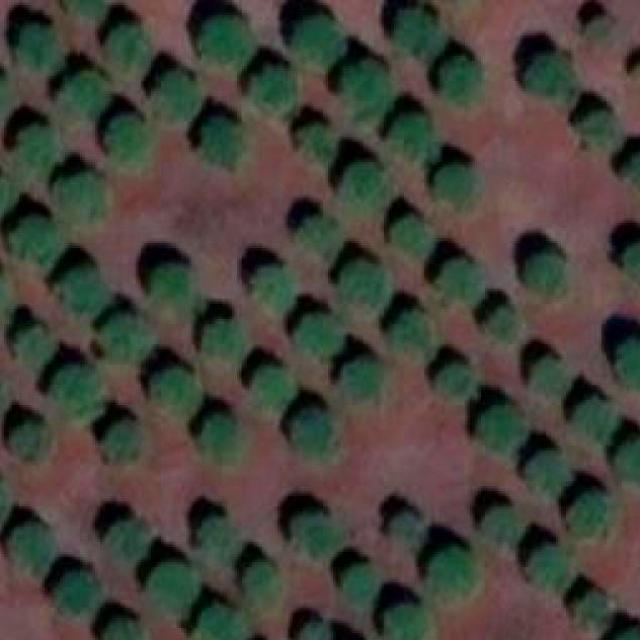Tree: (338, 63, 392, 121), (200, 12, 253, 71), (561, 491, 617, 545), (17, 20, 68, 79), (139, 560, 194, 614), (293, 18, 346, 72), (4, 522, 58, 575), (98, 314, 149, 368), (53, 170, 106, 221), (9, 213, 65, 261), (144, 363, 194, 416), (343, 162, 392, 216), (477, 400, 526, 454), (335, 355, 384, 408), (250, 64, 296, 119), (427, 545, 473, 598), (437, 251, 481, 305), (151, 263, 199, 312), (338, 261, 384, 312), (397, 5, 440, 59), (523, 446, 571, 494), (237, 555, 282, 606), (196, 415, 242, 464), (63, 69, 108, 119), (384, 116, 432, 162), (283, 509, 331, 555), (55, 569, 100, 618), (50, 365, 93, 413), (154, 71, 197, 119), (105, 20, 144, 71), (437, 56, 478, 104), (291, 407, 331, 456), (102, 117, 141, 167), (526, 54, 571, 97), (250, 365, 294, 408), (202, 113, 240, 162), (442, 162, 480, 211), (293, 312, 336, 355), (14, 324, 55, 368), (105, 516, 149, 557), (483, 504, 524, 548), (432, 357, 473, 401), (529, 540, 569, 585), (526, 251, 561, 302), (571, 395, 612, 438), (199, 602, 245, 640), (193, 511, 232, 555), (338, 560, 377, 604), (103, 420, 144, 461), (204, 319, 242, 363), (383, 604, 429, 640), (60, 266, 100, 307), (391, 309, 429, 352), (7, 420, 48, 459), (252, 266, 291, 307), (568, 587, 607, 626), (606, 438, 640, 482), (295, 124, 333, 162), (391, 218, 429, 256), (298, 215, 336, 253), (387, 514, 422, 555), (611, 339, 640, 387), (581, 13, 620, 47), (573, 109, 612, 143), (613, 146, 640, 192), (531, 357, 564, 393), (100, 614, 145, 640), (17, 125, 48, 160), (54, 0, 105, 20), (487, 304, 516, 337), (622, 233, 640, 281), (608, 625, 640, 640), (300, 623, 328, 640), (632, 56, 640, 84)
